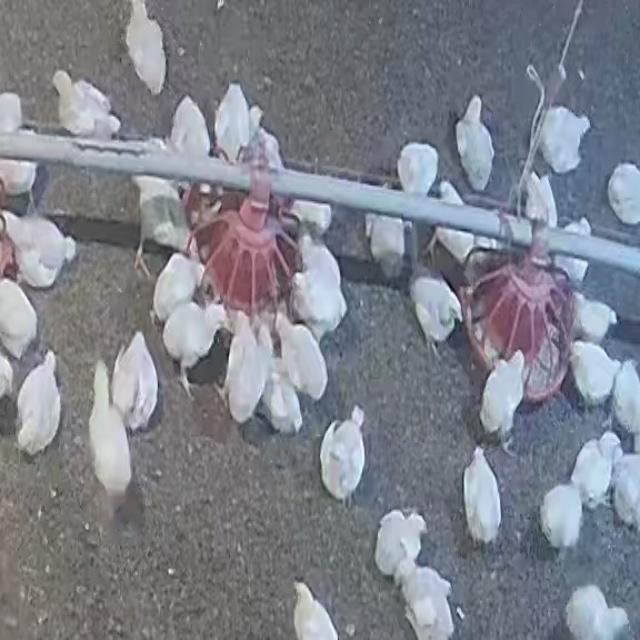chicken: (86, 362, 135, 520), (287, 220, 348, 344), (160, 297, 226, 400), (130, 175, 192, 275), (4, 208, 76, 290), (110, 331, 160, 433), (15, 350, 62, 458), (226, 314, 272, 424), (478, 351, 528, 450), (429, 184, 485, 272), (278, 312, 328, 406), (319, 407, 367, 504), (398, 564, 455, 640), (409, 271, 463, 351), (455, 94, 497, 191), (126, 0, 169, 94), (56, 72, 115, 140), (462, 446, 502, 545), (570, 433, 619, 512), (373, 508, 426, 580), (536, 106, 592, 174), (568, 340, 620, 410), (152, 252, 202, 324), (564, 584, 628, 640), (256, 362, 303, 436), (0, 278, 40, 362), (539, 483, 584, 553), (365, 209, 409, 280), (291, 581, 341, 640), (216, 87, 251, 167), (169, 97, 210, 164), (552, 221, 592, 286), (611, 358, 640, 442), (396, 142, 439, 197), (612, 453, 640, 533), (521, 170, 556, 230), (607, 162, 640, 225), (249, 114, 284, 172), (0, 158, 38, 209), (576, 298, 616, 346), (287, 199, 333, 237), (0, 92, 24, 136)
